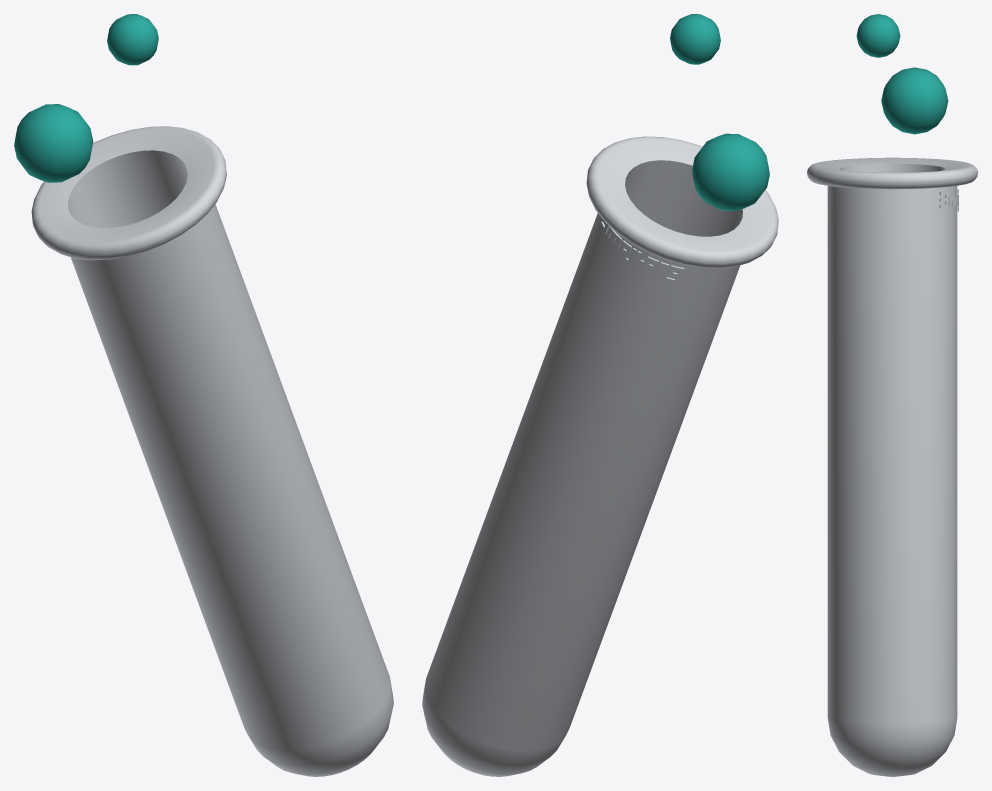
The picture shows the model from 3 angles, left to right: view 1: azimuth 30°, elevation 25°; view 2: azimuth 150°, elevation 25°; view 3: azimuth 270°, elevation 25°; orthographic projection. The views are drawn at different scales.
Parts seen in each view (by area): view 1: Circle.2595; view 2: Circle.2595; view 3: Circle.2595.
Part boxes in pixels (bbox=[...]): Circle.2595: bbox=[14, 14, 393, 776]; Circle.2595: bbox=[422, 14, 778, 776]; Circle.2595: bbox=[807, 14, 977, 776].
Size of the model in its own units: 1.05 by 2.31 by 0.528.
2 materials, 1 textured.
